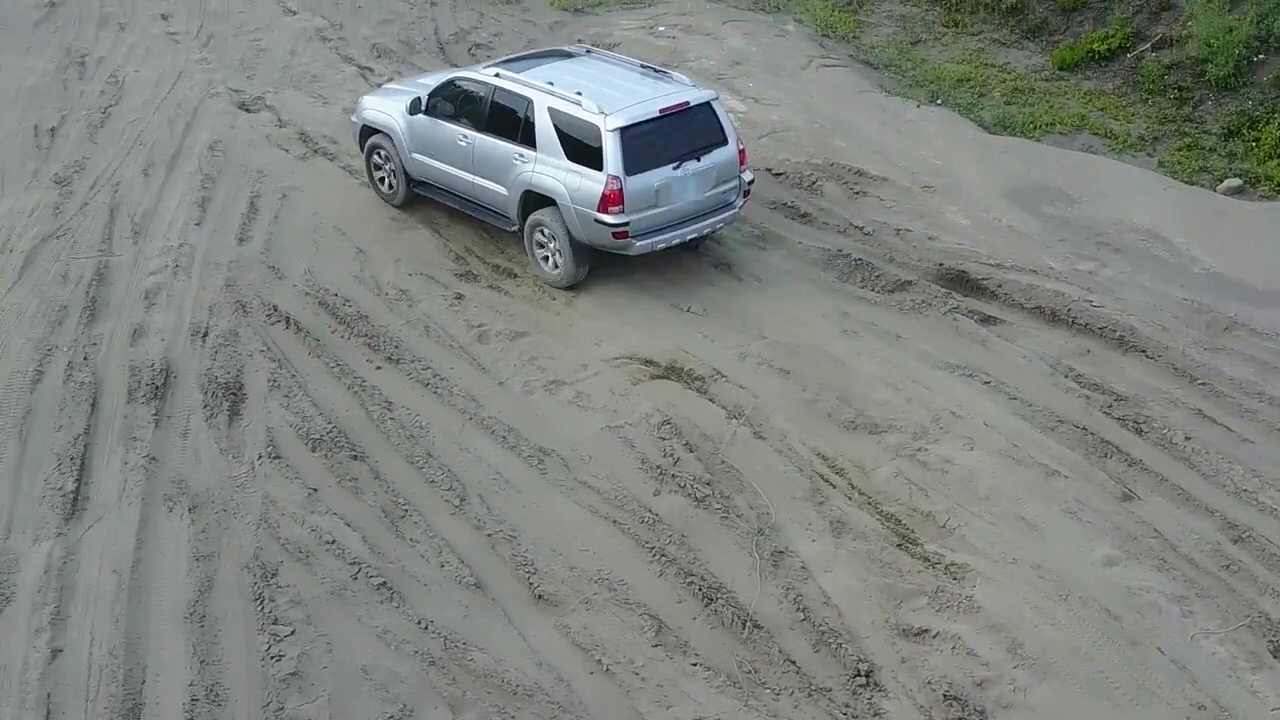araba: (348, 44, 756, 290)
